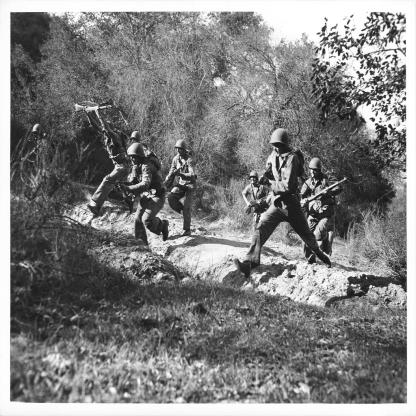Helmet: (270, 128, 288, 156), (127, 143, 144, 166), (307, 156, 321, 180), (173, 140, 186, 158), (31, 123, 45, 136), (101, 121, 115, 131), (249, 171, 258, 185), (130, 131, 140, 143)
